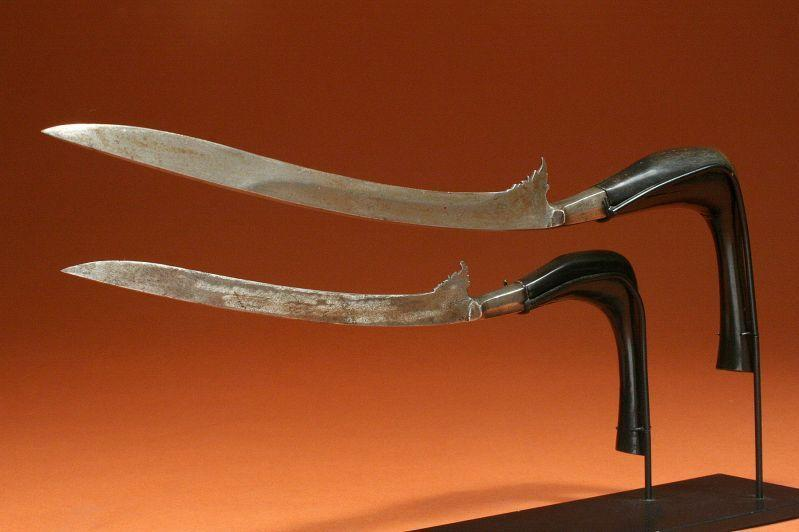facao: (44, 124, 757, 371), (64, 250, 650, 493)
